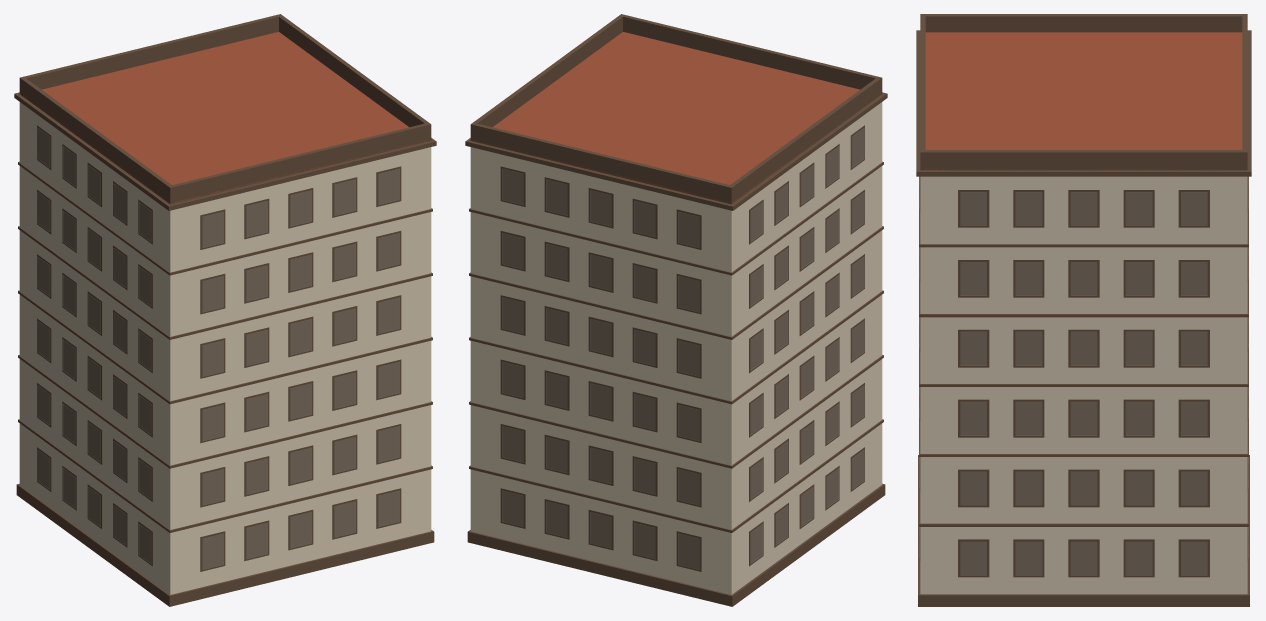
Rendered from block_tall.glb.
3 views of the same model, side by side, from view 1: azimuth 30°, elevation 25°; view 2: azimuth 150°, elevation 25°; view 3: azimuth 270°, elevation 25° (orthographic). The views are drawn at different scales.
Parts seen in each view (by area): view 1: SM_ENV_block_tall; view 2: SM_ENV_block_tall; view 3: SM_ENV_block_tall.
Part boxes in pixels (x1=…): SM_ENV_block_tall: x1=14, y1=14, x2=436, y2=606; SM_ENV_block_tall: x1=465, y1=14, x2=887, y2=606; SM_ENV_block_tall: x1=916, y1=14, x2=1251, y2=606.
Bounding box in the file's own units: 14.36 × 21.42 × 14.36.
